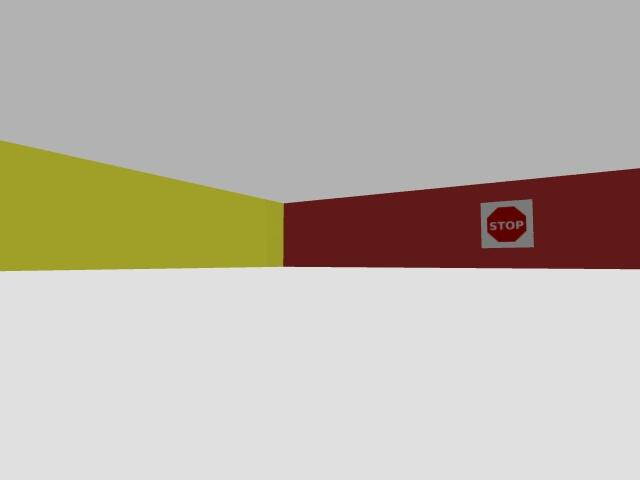stop: (481, 199, 533, 248)
